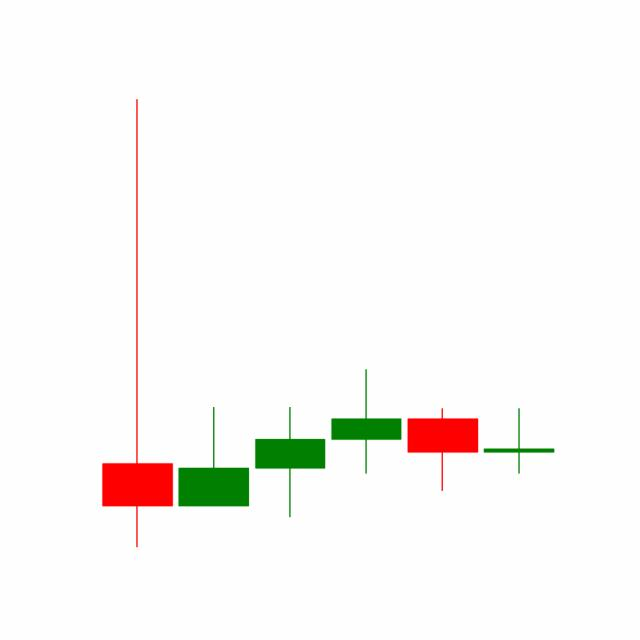Dragonfly Doji: (403, 406, 481, 492)
